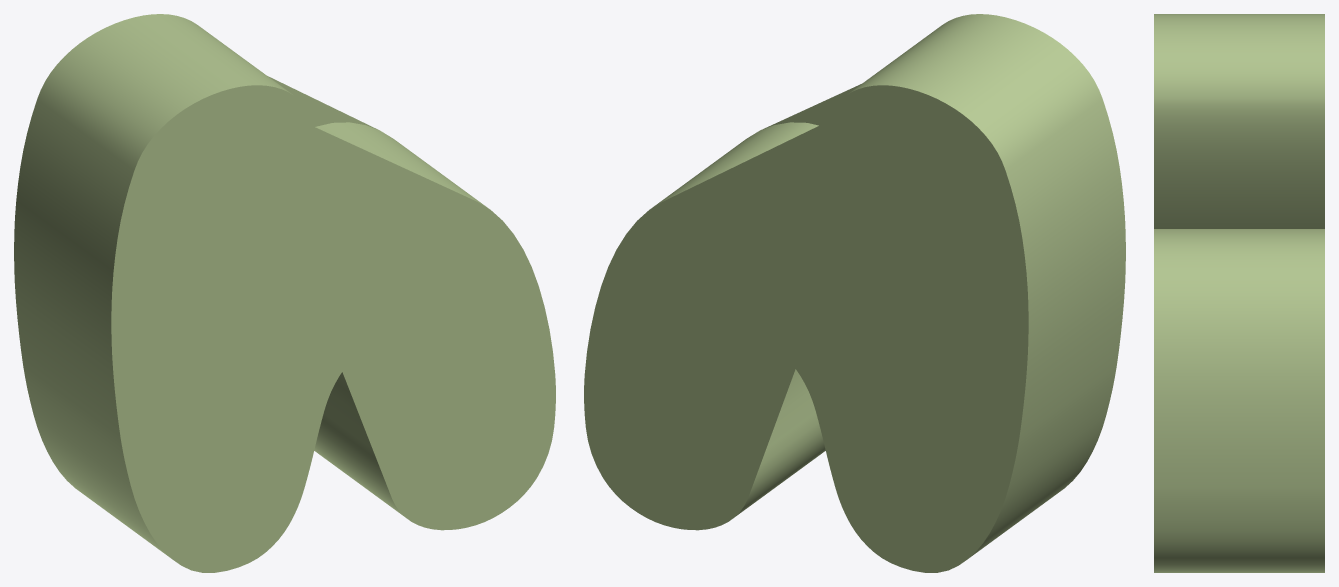
3 views of the same model, side by side, from view 1: azimuth 30°, elevation 25°; view 2: azimuth 150°, elevation 25°; view 3: azimuth 270°, elevation 25° (orthographic). The views are drawn at different scales.
Visible parts, largest first — view 1: pasted__typeMesh15; view 2: pasted__typeMesh15; view 3: pasted__typeMesh15.
Boxes of the visible parts, bbox=[...] form: pasted__typeMesh15: bbox=[14, 14, 555, 572]; pasted__typeMesh15: bbox=[584, 14, 1125, 572]; pasted__typeMesh15: bbox=[1154, 14, 1324, 572].
Size of the model in its own units: 6.59 by 7.04 by 2.5.
